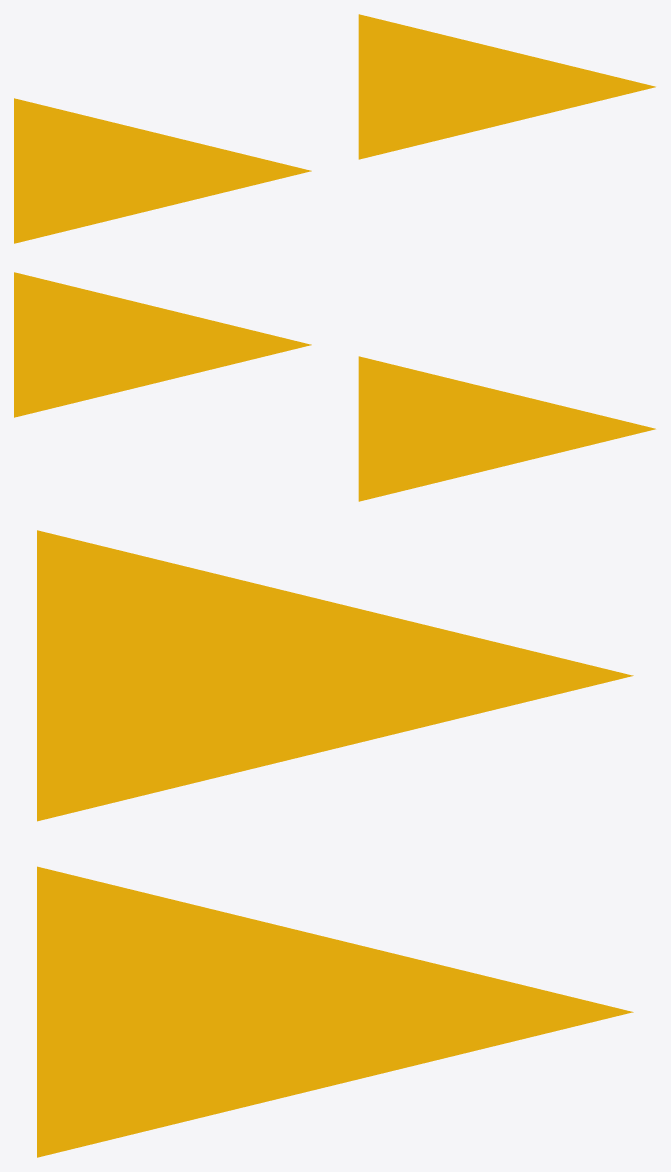
The model's file is Triangle2.fbx.
The picture shows the model from 3 angles, top to bottom: view 1: azimuth 30°, elevation 25°; view 2: azimuth 150°, elevation 25°; view 3: azimuth 270°, elevation 25°; orthographic projection. The views are drawn at different scales.
Parts seen in each view (by area): view 1: Triangle2; view 2: Triangle2; view 3: Triangle2.
Boxes of the visible parts, bbox=[...] form: Triangle2: bbox=[14, 14, 655, 243]; Triangle2: bbox=[14, 272, 655, 501]; Triangle2: bbox=[37, 530, 633, 1157].
Size of the model in its own units: 0.0168 by 0 by 0.00675.
